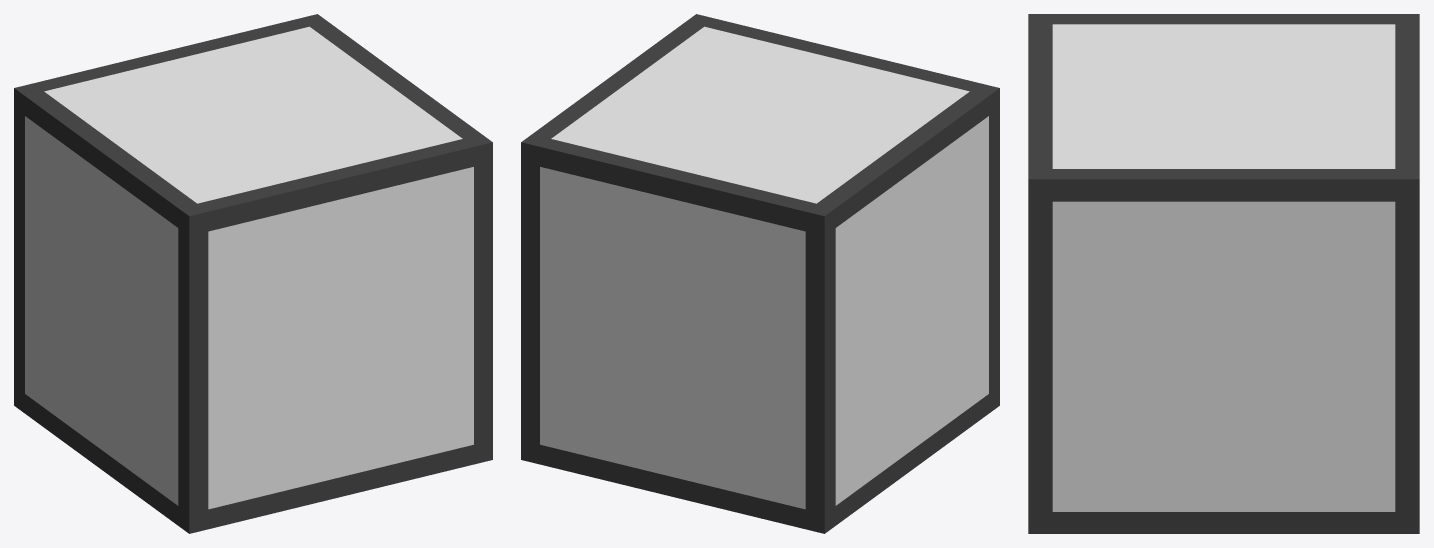
The picture shows the model from 3 angles, left to right: view 1: azimuth 30°, elevation 25°; view 2: azimuth 150°, elevation 25°; view 3: azimuth 270°, elevation 25°; orthographic projection. The views are drawn at different scales.
Visible parts, largest first — view 1: cube; view 2: cube; view 3: cube.
Part boxes in pixels (x1=…): cube: x1=14, y1=14, x2=492, y2=533; cube: x1=521, y1=14, x2=999, y2=533; cube: x1=1028, y1=14, x2=1419, y2=533.
Size of the model in its own units: 1.6 by 1.6 by 1.6.
1 material, 1 textured.
